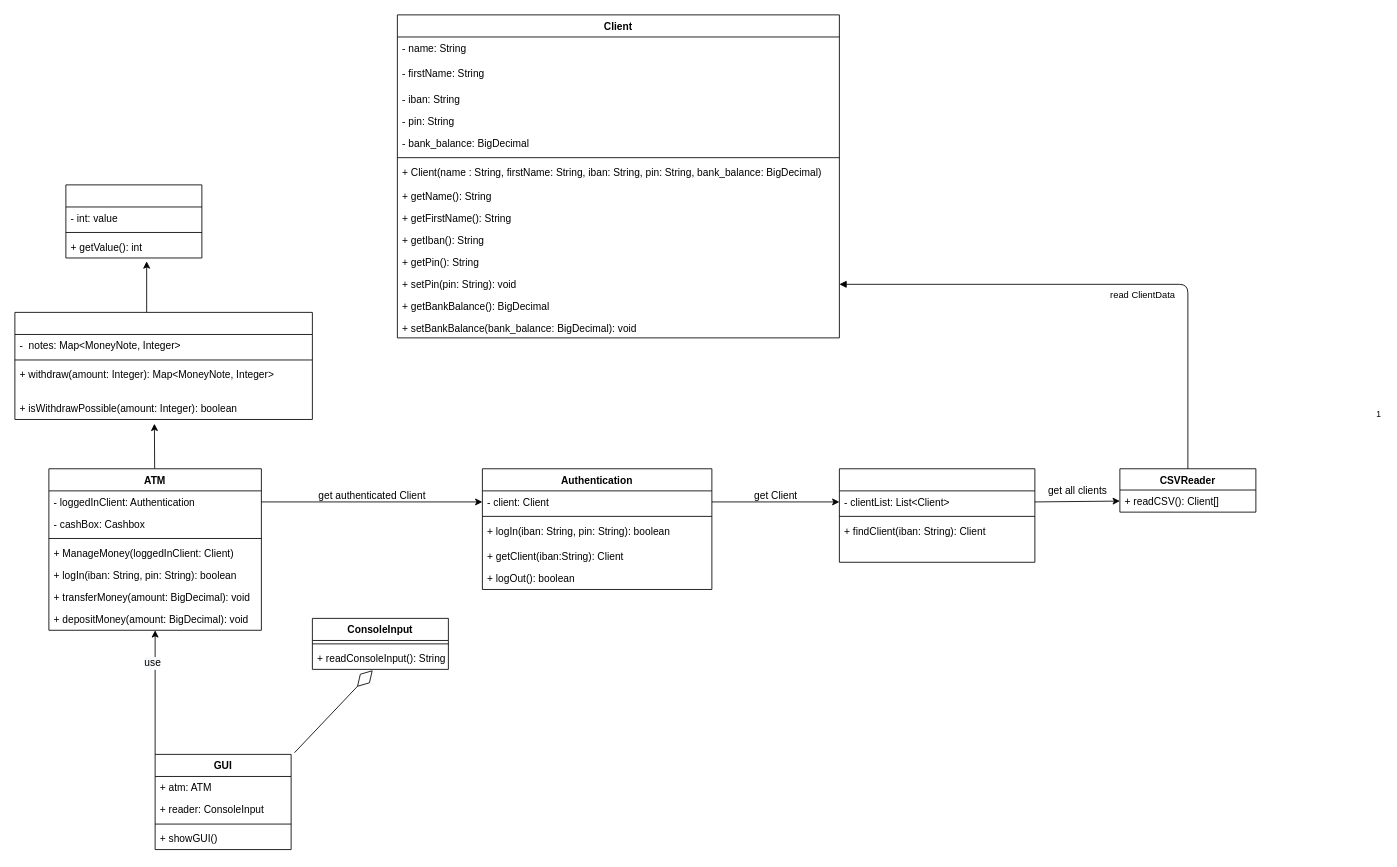
This 1397x867 diagram has some shape labels left out. Each missing label, with the box of its shape:
Cashbox: (14, 312, 312, 419)
ClientRepository: (839, 468, 1035, 562)
MoneyNote: (65, 184, 202, 258)
